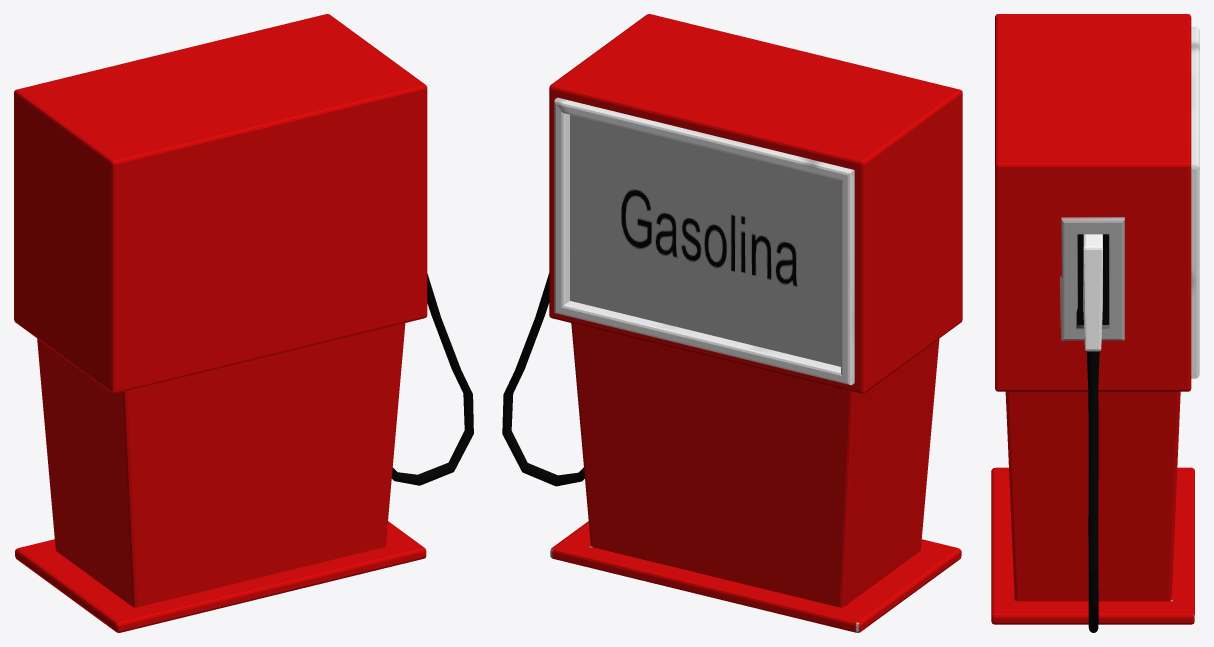
Rendered from bomba de gasolina.fbx.
3 renders of one model, left to right at view 1: azimuth 30°, elevation 25°; view 2: azimuth 150°, elevation 25°; view 3: azimuth 270°, elevation 25°, orthographic.
Parts seen in each view (by area): view 1: Cube, Cylinder; view 2: Cube, Cylinder; view 3: Cube, Cylinder, Cube.001.
Boxes of the visible parts, x1=… form: Cube: x1=14, y1=14, x2=427, y2=632; Cylinder: x1=391, y1=273, x2=473, y2=485; Cube: x1=549, y1=14, x2=962, y2=632; Cylinder: x1=502, y1=273, x2=584, y2=486; Cube: x1=991, y1=14, x2=1199, y2=624; Cylinder: x1=1086, y1=351, x2=1099, y2=632; Cube.001: x1=1083, y1=234, x2=1102, y2=351.
Size of the model in its own units: 796 by 873 by 356.
Materials: 4 (4 with a texture image).
